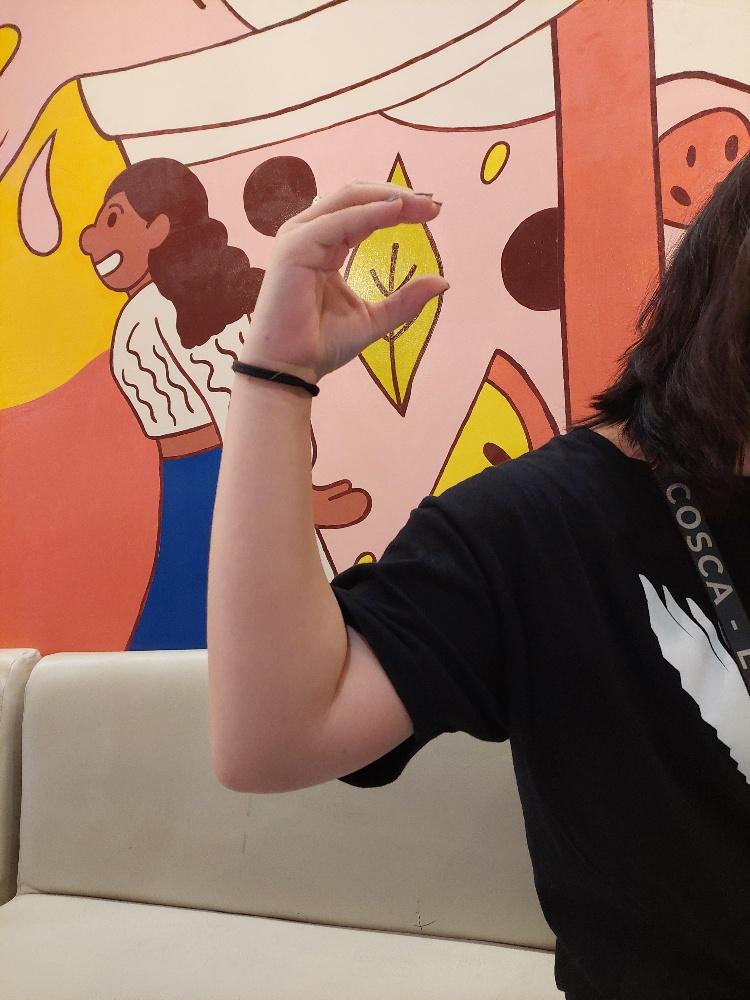c: (251, 173, 453, 377)
